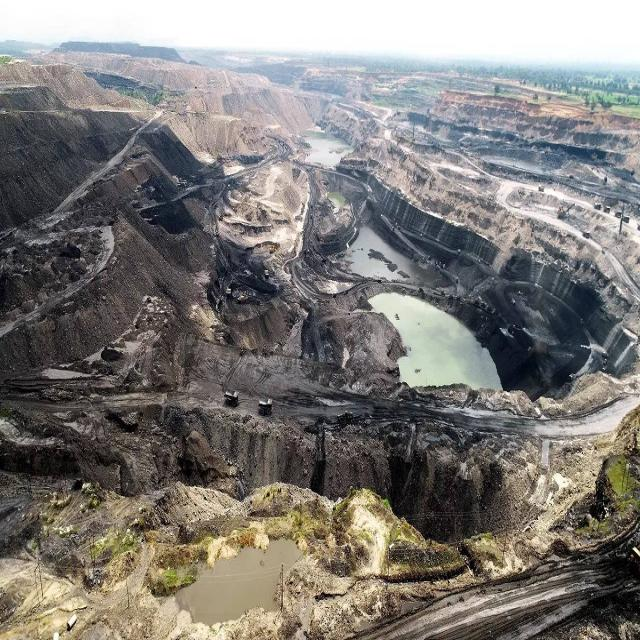dump_truck: (218, 382, 241, 409), (257, 388, 275, 419)
